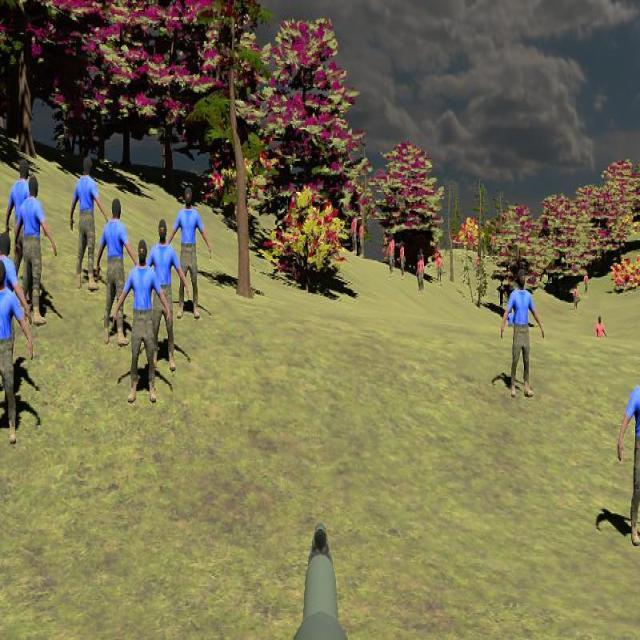Human: (114, 242, 169, 402), (140, 221, 188, 369), (163, 186, 212, 320), (0, 257, 33, 449), (15, 175, 57, 325), (96, 197, 138, 345), (501, 266, 544, 398), (70, 155, 109, 291), (5, 162, 39, 317), (616, 352, 640, 544)
